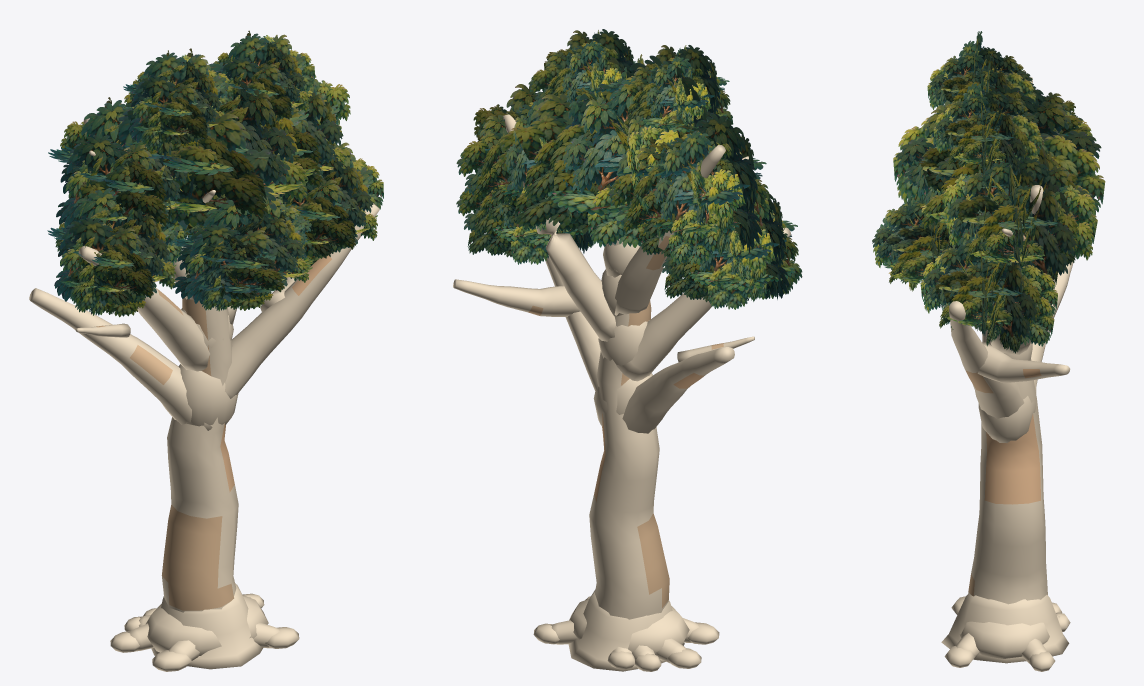
File: TREE_EUCALYPTUS_001_v011_LOD_CLOSE.glb
3 views of the same model, side by side, from view 1: azimuth 30°, elevation 25°; view 2: azimuth 150°, elevation 25°; view 3: azimuth 270°, elevation 25° (orthographic). The views are drawn at different scales.
Parts seen in each view (by area): view 1: TREE_EUCALYPTUS_001_CLOSE_AUTHORED_FOLIAGE_ISLANDS, TREE_EUCALYPTUS_001_CLOSE_MAIN_TRUNK, TREE_EUCALYPTUS_001_CLOSE_MID_RIGHT_SWEEP, TREE_EUCALYPTUS_001_CLOSE_LOWER_LEFT_SWEEP, TREE_EUCALYPTUS_001_CLOSE_SCULPTED_ROOT_COLLAR, TREE_EUCALYPTUS_001_CLOSE_MID_LEFT_ARCH, TREE_EUCALYPTUS_001_CLOSE_BROAD_PLANTED_ROOT_MOUND, TREE_EUCALYPTUS_001_CLOSE_SCULPTED_FORK_SWELL_0, TREE_EUCALYPTUS_001_CLOSE_ROOT_TOE_FRONT_LEFT; view 2: TREE_EUCALYPTUS_001_CLOSE_AUTHORED_FOLIAGE_ISLANDS, TREE_EUCALYPTUS_001_CLOSE_MAIN_TRUNK, TREE_EUCALYPTUS_001_CLOSE_LOWER_LEFT_SWEEP, TREE_EUCALYPTUS_001_CLOSE_UPPER_RIGHT_ARCH, TREE_EUCALYPTUS_001_CLOSE_SCULPTED_ROOT_COLLAR, TREE_EUCALYPTUS_001_CLOSE_MID_LEFT_ARCH, TREE_EUCALYPTUS_001_CLOSE_UPPER_LEFT_FORK, TREE_EUCALYPTUS_001_CLOSE_LOWER_RIGHT_REACH, TREE_EUCALYPTUS_001_CLOSE_BROAD_PLANTED_ROOT_MOUND, TREE_EUCALYPTUS_001_CLOSE_MID_RIGHT_SWEEP, TREE_EUCALYPTUS_001_CLOSE_SCULPTED_FORK_SWELL_1, TREE_EUCALYPTUS_001_CLOSE_SCULPTED_FORK_SWELL_0 (+1 smaller); view 3: TREE_EUCALYPTUS_001_CLOSE_AUTHORED_FOLIAGE_ISLANDS, TREE_EUCALYPTUS_001_CLOSE_MAIN_TRUNK, TREE_EUCALYPTUS_001_CLOSE_SCULPTED_ROOT_COLLAR, TREE_EUCALYPTUS_001_CLOSE_MID_RIGHT_SWEEP, TREE_EUCALYPTUS_001_CLOSE_BROAD_PLANTED_ROOT_MOUND, TREE_EUCALYPTUS_001_CLOSE_LOWER_RIGHT_REACH, TREE_EUCALYPTUS_001_CLOSE_SCULPTED_FORK_SWELL_0, TREE_EUCALYPTUS_001_CLOSE_LOWER_LEFT_SWEEP, TREE_EUCALYPTUS_001_CLOSE_UPPER_RIGHT_ARCH, TREE_EUCALYPTUS_001_CLOSE_ROOT_TOE_FRONT_RIGHT.
Part boxes in pixels (left/top/right/bottom): TREE_EUCALYPTUS_001_CLOSE_AUTHORED_FOLIAGE_ISLANDS: left=47, top=30, right=383, bottom=317; TREE_EUCALYPTUS_001_CLOSE_MAIN_TRUNK: left=161, top=298, right=238, bottom=612; TREE_EUCALYPTUS_001_CLOSE_MID_RIGHT_SWEEP: left=225, top=203, right=379, bottom=398; TREE_EUCALYPTUS_001_CLOSE_LOWER_LEFT_SWEEP: left=29, top=288, right=212, bottom=430; TREE_EUCALYPTUS_001_CLOSE_SCULPTED_ROOT_COLLAR: left=151, top=583, right=263, bottom=669; TREE_EUCALYPTUS_001_CLOSE_MID_LEFT_ARCH: left=78, top=245, right=209, bottom=371; TREE_EUCALYPTUS_001_CLOSE_BROAD_PLANTED_ROOT_MOUND: left=146, top=595, right=268, bottom=655; TREE_EUCALYPTUS_001_CLOSE_SCULPTED_FORK_SWELL_0: left=178, top=364, right=238, bottom=426; TREE_EUCALYPTUS_001_CLOSE_ROOT_TOE_FRONT_LEFT: left=152, top=650, right=191, bottom=671; TREE_EUCALYPTUS_001_CLOSE_AUTHORED_FOLIAGE_ISLANDS: left=456, top=29, right=802, bottom=309; TREE_EUCALYPTUS_001_CLOSE_MAIN_TRUNK: left=589, top=238, right=669, bottom=619; TREE_EUCALYPTUS_001_CLOSE_LOWER_LEFT_SWEEP: left=622, top=347, right=734, bottom=433; TREE_EUCALYPTUS_001_CLOSE_UPPER_RIGHT_ARCH: left=502, top=113, right=615, bottom=341; TREE_EUCALYPTUS_001_CLOSE_SCULPTED_ROOT_COLLAR: left=568, top=589, right=684, bottom=671; TREE_EUCALYPTUS_001_CLOSE_MID_LEFT_ARCH: left=616, top=227, right=790, bottom=381; TREE_EUCALYPTUS_001_CLOSE_UPPER_LEFT_FORK: left=614, top=145, right=725, bottom=315; TREE_EUCALYPTUS_001_CLOSE_LOWER_RIGHT_REACH: left=453, top=279, right=580, bottom=316; TREE_EUCALYPTUS_001_CLOSE_BROAD_PLANTED_ROOT_MOUND: left=569, top=599, right=689, bottom=658; TREE_EUCALYPTUS_001_CLOSE_MID_RIGHT_SWEEP: left=545, top=255, right=600, bottom=390; TREE_EUCALYPTUS_001_CLOSE_SCULPTED_FORK_SWELL_1: left=598, top=320, right=649, bottom=366; TREE_EUCALYPTUS_001_CLOSE_SCULPTED_FORK_SWELL_0: left=593, top=373, right=652, bottom=426; TREE_EUCALYPTUS_001_CLOSE_AUTHORED_FOLIAGE_ISLANDS: left=872, top=31, right=1105, bottom=353; TREE_EUCALYPTUS_001_CLOSE_MAIN_TRUNK: left=968, top=330, right=1047, bottom=604; TREE_EUCALYPTUS_001_CLOSE_SCULPTED_ROOT_COLLAR: left=941, top=593, right=1069, bottom=663; TREE_EUCALYPTUS_001_CLOSE_MID_RIGHT_SWEEP: left=949, top=301, right=1024, bottom=418; TREE_EUCALYPTUS_001_CLOSE_BROAD_PLANTED_ROOT_MOUND: left=959, top=621, right=1049, bottom=658; TREE_EUCALYPTUS_001_CLOSE_LOWER_RIGHT_REACH: left=977, top=342, right=1070, bottom=383; TREE_EUCALYPTUS_001_CLOSE_SCULPTED_FORK_SWELL_0: left=978, top=396, right=1035, bottom=442; TREE_EUCALYPTUS_001_CLOSE_LOWER_LEFT_SWEEP: left=1031, top=255, right=1075, bottom=393; TREE_EUCALYPTUS_001_CLOSE_UPPER_RIGHT_ARCH: left=991, top=185, right=1043, bottom=354; TREE_EUCALYPTUS_001_CLOSE_ROOT_TOE_FRONT_RIGHT: left=944, top=646, right=975, bottom=667.
Bounding box in the file's own units: 7.87 × 13.1 × 5.55.
Materials: 5 (1 with a texture image).
